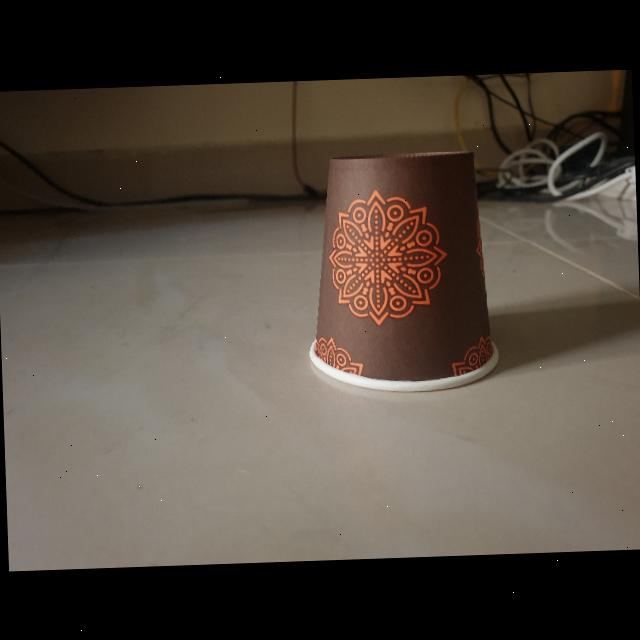trash: (301, 144, 504, 396)
